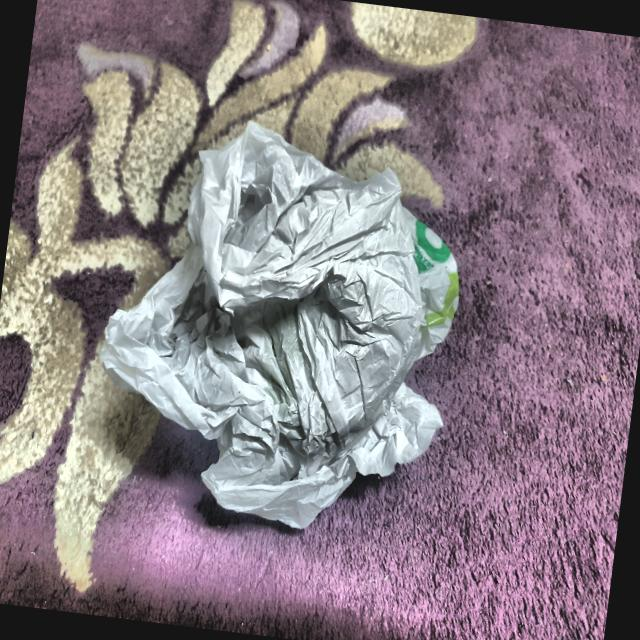plastic bag: (78, 96, 493, 559)
